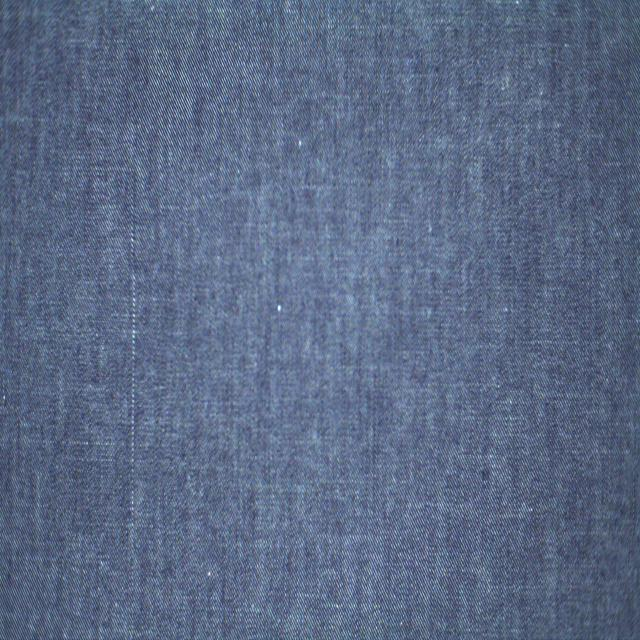pulled_or_thick_thread: (127, 170, 142, 570)
